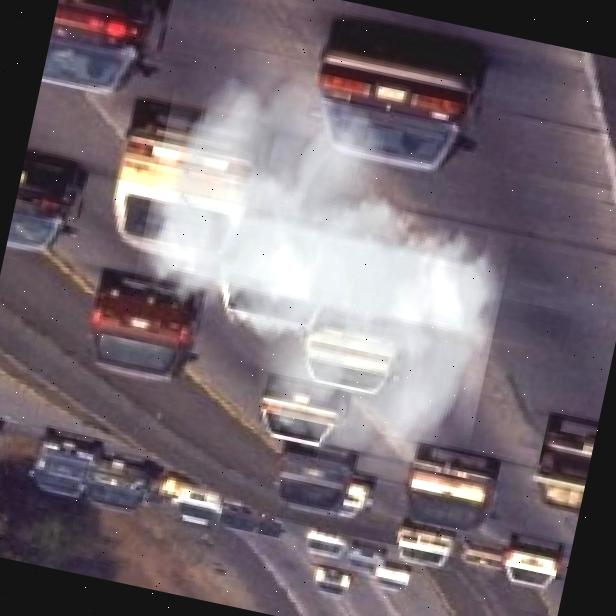smoke: (103, 36, 541, 499)
